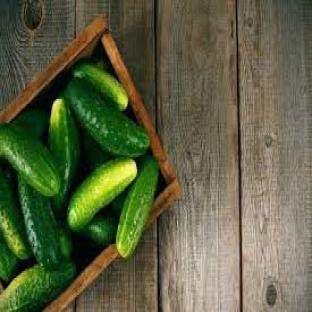Cucumber: (65, 79, 149, 156), (67, 157, 137, 231), (0, 125, 60, 196), (116, 156, 158, 257), (19, 176, 62, 269), (0, 263, 76, 311), (49, 99, 79, 214), (0, 171, 31, 259), (73, 62, 128, 110), (81, 132, 111, 172), (13, 110, 48, 138), (82, 217, 117, 245), (0, 237, 19, 281), (111, 190, 128, 219), (59, 226, 72, 259), (92, 58, 111, 71)
